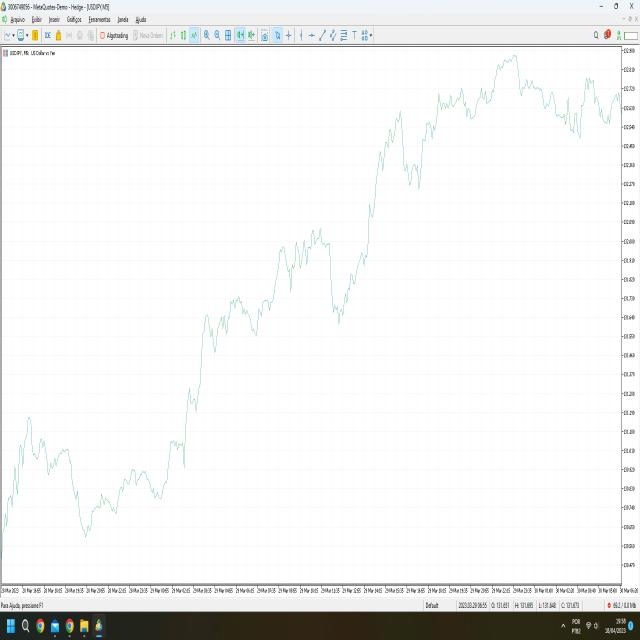bandeira_alta: (194, 288, 229, 409), (154, 429, 186, 510), (430, 86, 466, 149), (182, 378, 205, 459)
fundo_duplo: (398, 145, 433, 201), (565, 94, 587, 149)
oco_inv: (326, 287, 356, 334)
